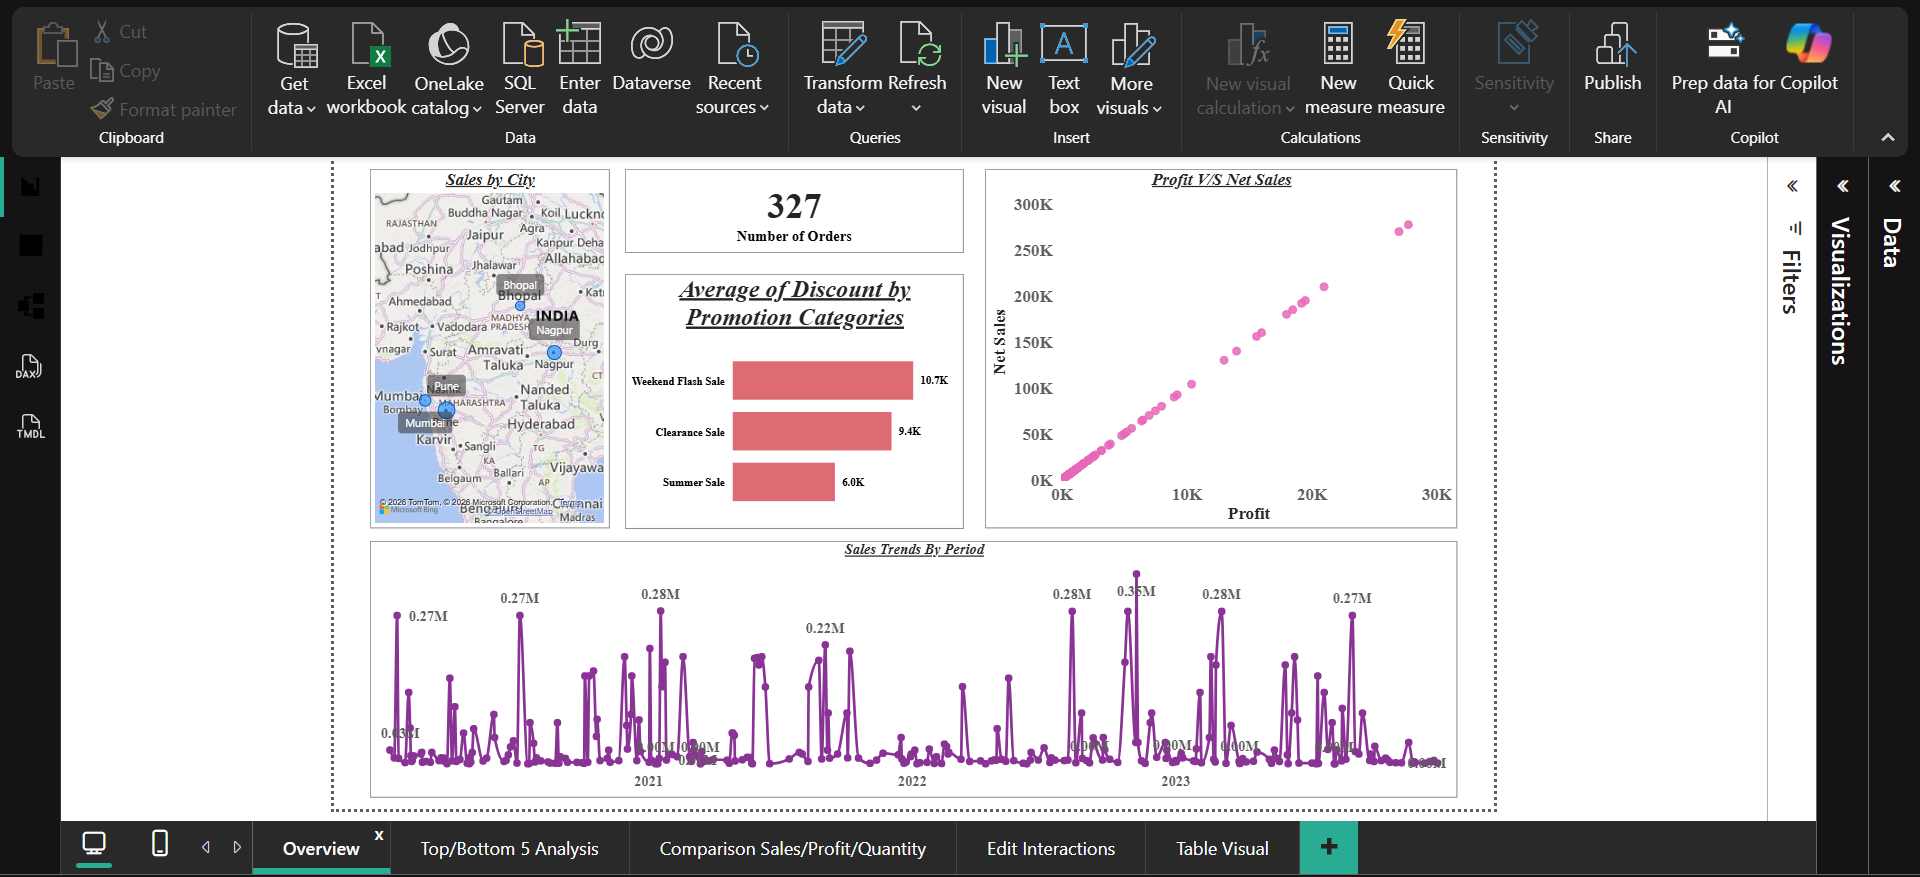

The dashboard page shown, as its layout file describes it:
{"tool":"powerbi","page":{"name":"Overview","canvas":[1280,720],"ordinal":0},"visuals":[{"type":"lineChart","title":"Sales Trends By Period","fields":{"Y":["Sum(Fact Table.Net Sales)"],"Category":["Fact Table.Date (dd/mm/yyyy).Variation.Date Hierarchy.Year"]},"box":[39.8,424.1,1200.9,283.3],"z":0},{"type":"scatterChart","title":"Profit V/S Net Sales","fields":{"X":["Fact Table.Profit"],"Y":["Fact Table.Net Sales"]},"box":[718.1,13.2,521.6,396.9],"z":1000},{"type":"barChart","title":"Average of Discount  by Promotion Categories","fields":{"Y":["Avg(Fact Table.Discount )"],"Category":["Dim Promotion.Promotion Name"]},"box":[321.3,128.5,374.2,281.6],"z":2000},{"type":"map","title":"Sales by City","fields":{"Category":["Dim Customers.City"],"Size":["Sum(Fact Table.Net Sales)"]},"box":[39.7,13.2,264.6,396.9],"z":3000},{"type":"card","fields":{"Values":["Count(Fact Table.Order ID)"]},"box":[321.3,13.2,374.2,92.6],"z":4000}]}

Visuals, with their boxes on the page's 1280x720 design canvas (x1, y1, x2, y2). These are canvas units, not pixel positions in the 1920x877 screenshot, which may show the page scaled, cropped or inside an application window:
"Sales Trends By Period" lineChart: 40,424,1241,707
"Profit V/S Net Sales" scatterChart: 718,13,1240,410
"Average of Discount  by Promotion Categories" barChart: 321,128,696,410
"Sales by City" map: 40,13,304,410
card - Count(Fact Table.Order ID): 321,13,696,106
